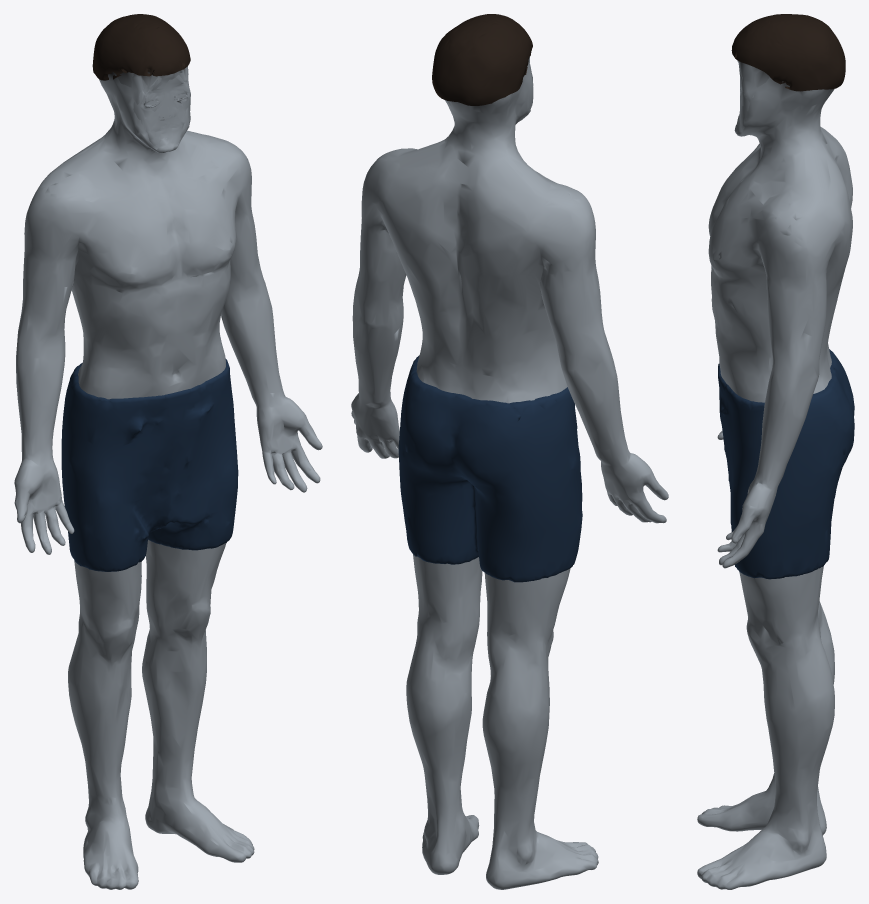
Rendered from muscle-reference.glb.
3 views of the same model, side by side, from view 1: azimuth 30°, elevation 25°; view 2: azimuth 150°, elevation 25°; view 3: azimuth 270°, elevation 25° (orthographic). The views are drawn at different scales.
Parts seen in each view (by area): view 1: BodyParts3D · complete fitness reference, BodyParts3D Skin-derived · athletic shorts, Cosmetic · Skin-derived dark brown close crop; view 2: BodyParts3D · complete fitness reference, BodyParts3D Skin-derived · athletic shorts, Cosmetic · Skin-derived dark brown close crop; view 3: BodyParts3D · complete fitness reference, BodyParts3D Skin-derived · athletic shorts, Cosmetic · Skin-derived dark brown close crop.
Boxes of the visible parts, x1=… form: BodyParts3D · complete fitness reference: x1=14, y1=66, x2=322, y2=889; BodyParts3D Skin-derived · athletic shorts: x1=61, y1=359, x2=238, y2=571; Cosmetic · Skin-derived dark brown close crop: x1=92, y1=14, x2=190, y2=80; BodyParts3D · complete fitness reference: x1=351, y1=56, x2=668, y2=889; BodyParts3D Skin-derived · athletic shorts: x1=398, y1=355, x2=582, y2=582; Cosmetic · Skin-derived dark brown close crop: x1=432, y1=14, x2=532, y2=105; BodyParts3D · complete fitness reference: x1=697, y1=60, x2=852, y2=889; BodyParts3D Skin-derived · athletic shorts: x1=718, y1=349, x2=854, y2=579; Cosmetic · Skin-derived dark brown close crop: x1=731, y1=14, x2=845, y2=91.
Bounding box in the file's own units: 0.6668 × 1.73 × 0.295.
